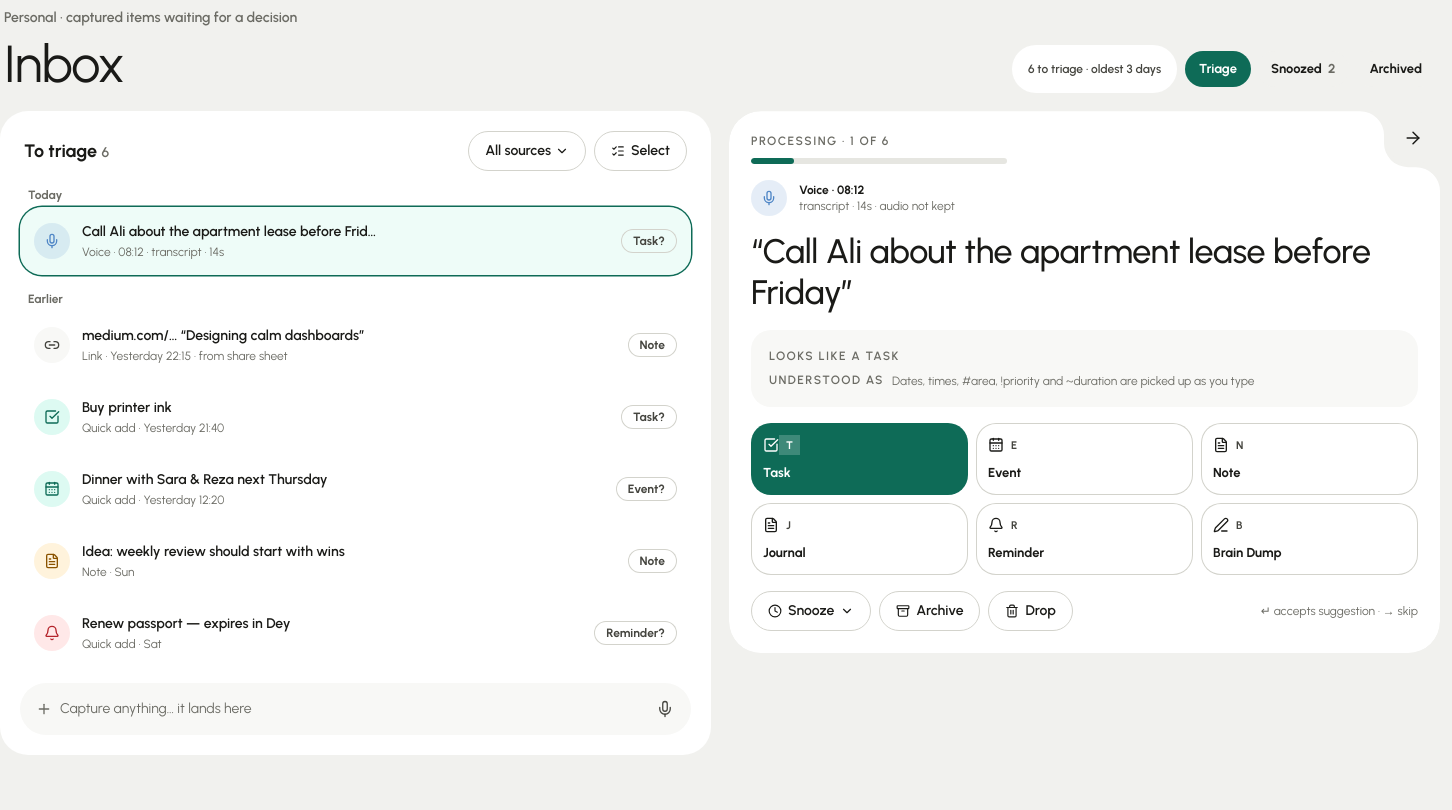
Test: InboxScreen (P07) › lists the triage items and walks them in the Process card
Expected: the heading "Inbox" is shown, [4, 33, 124, 95]
Expected: the text "Processing · 1 of 6" is shown, [751, 134, 890, 148]
Click the button named "Skip to the next item" at x=1413, y=138, box [1386, 111, 1440, 165]
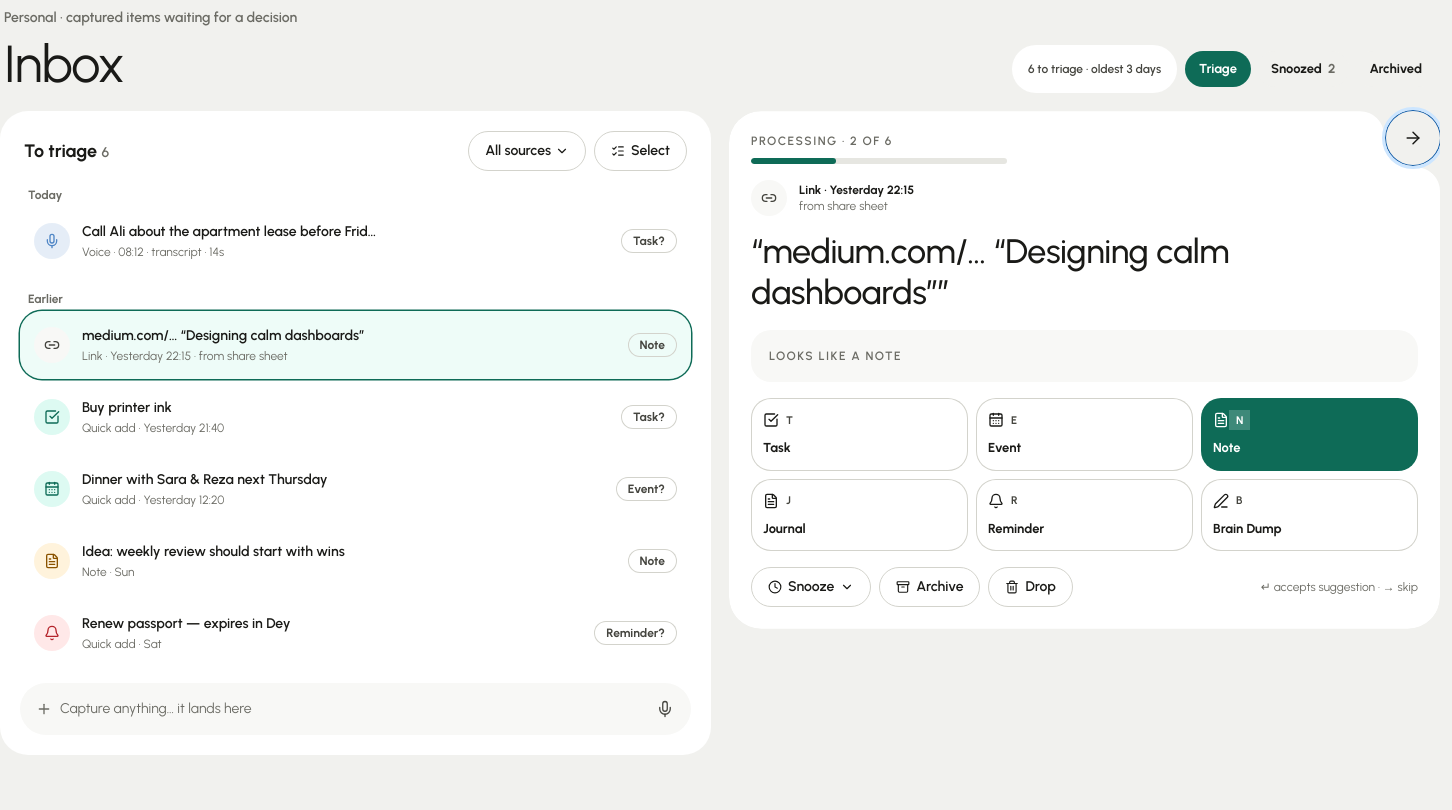
Expected: the text "Processing · 2 of 6" is shown, [751, 134, 893, 148]
